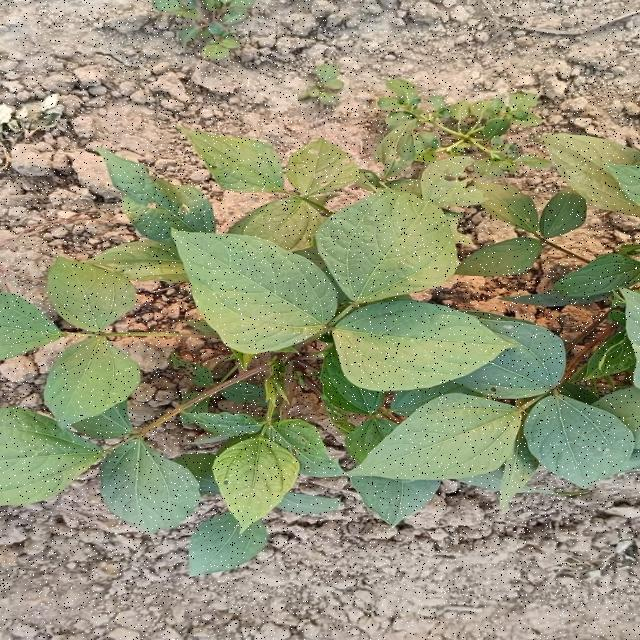plant: (2, 81, 640, 574), (2, 294, 66, 358)
